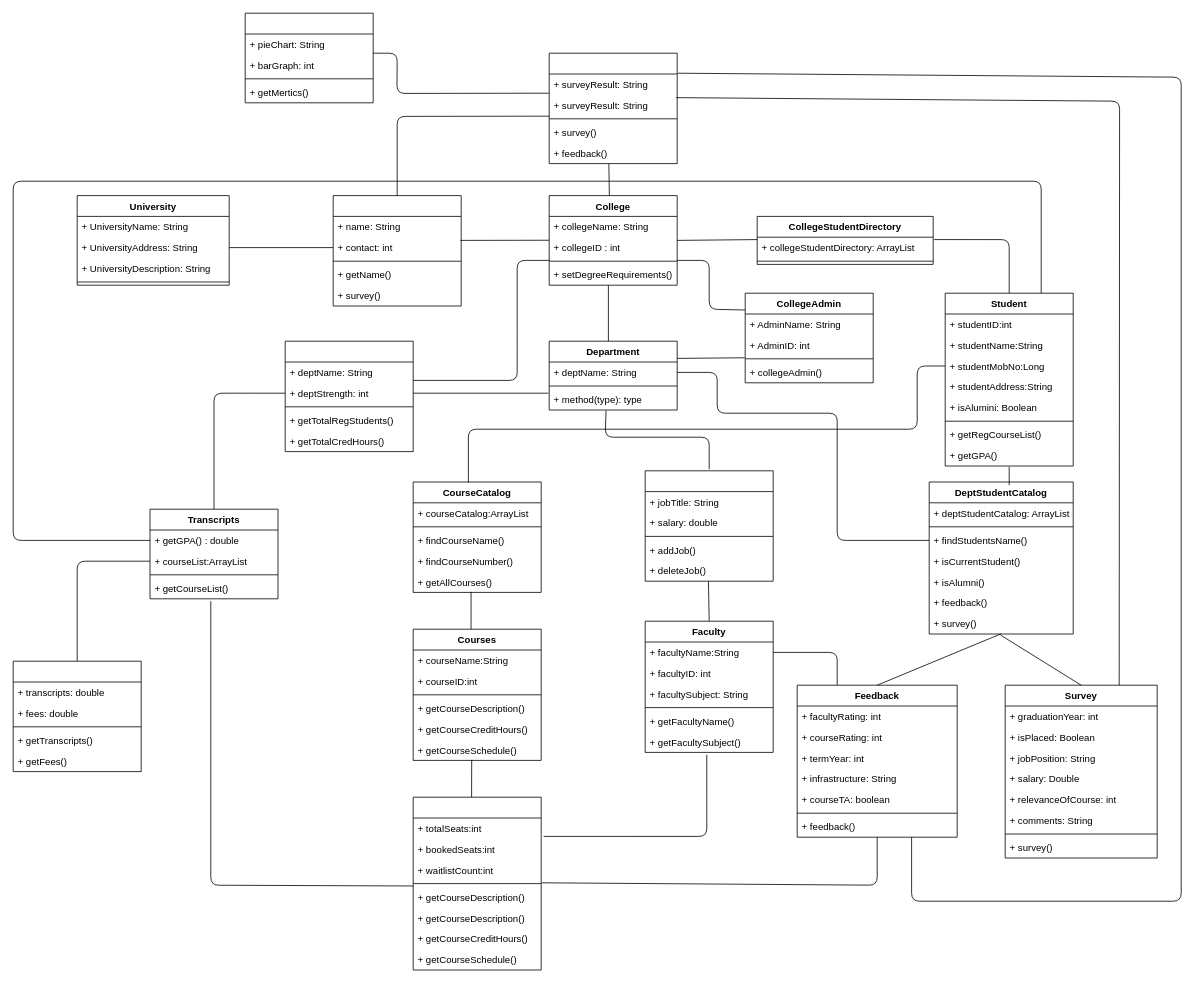
The diagram is 1194 pixels wide and 983 high, and some of its shapes have lost their labels. The shapes that lost their labels are listed below. From the top down, each one's box as (x1, y1, x2, y2) in pixels, then its label:
(244, 12, 373, 103): Metrics
(548, 52, 677, 164): CompareAndRank
(332, 195, 461, 306): Registrar
(284, 340, 413, 452): DegreeRequirement
(644, 470, 773, 581): Jobs
(12, 660, 141, 772): ParentStudentRecords
(412, 796, 541, 970): CourseOffering
